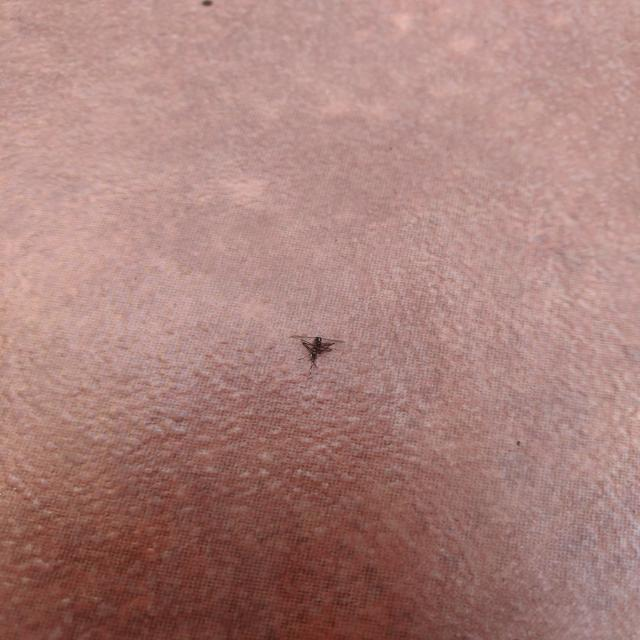albopictus: (286, 330, 347, 382)
